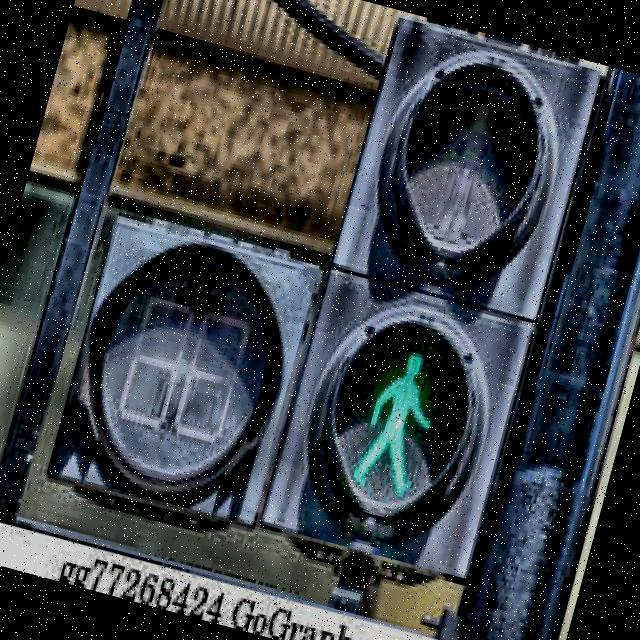green_light: (347, 341, 452, 505)
